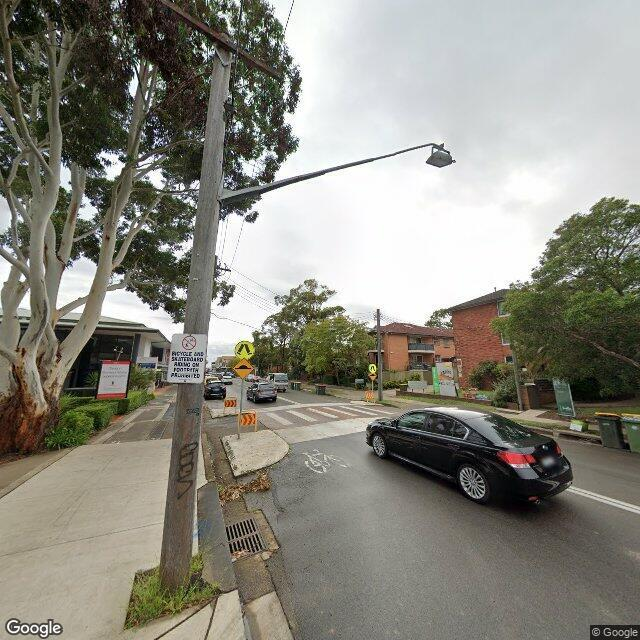crossarm: (162, 0, 283, 82)
streetlight: (218, 142, 457, 206)
timber-pole: (157, 33, 235, 592), (511, 339, 523, 412), (377, 308, 383, 401)
